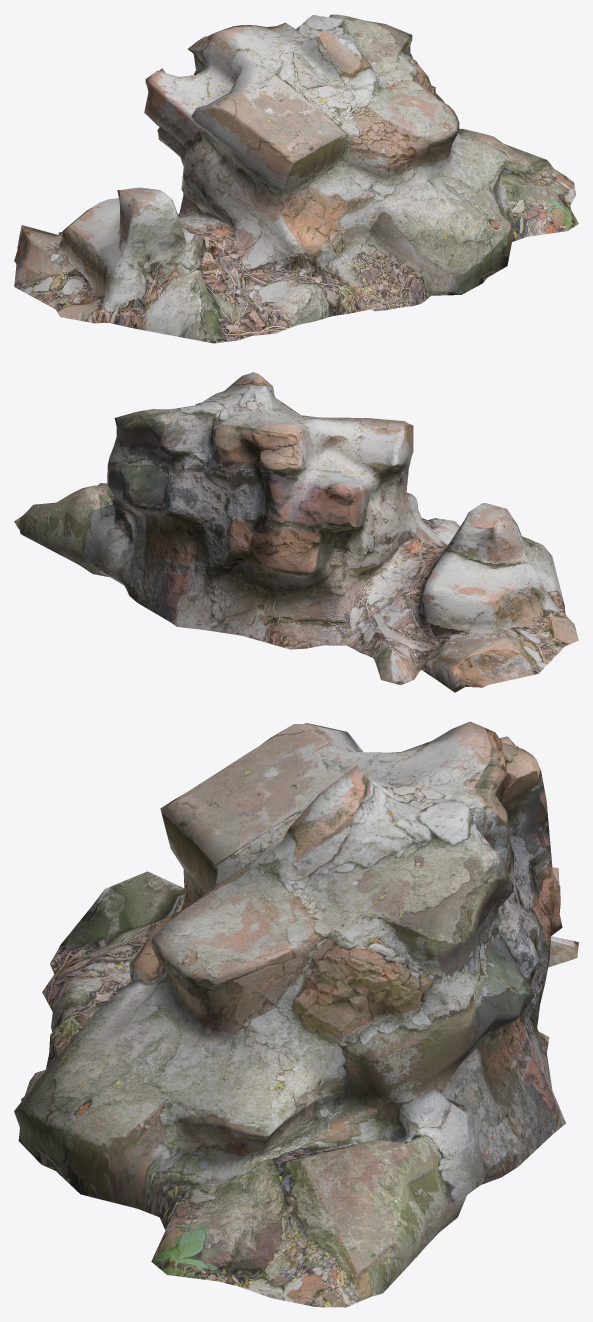
Rendered from SM_Rubble_01_01.fbx.
3 renders of one model, top to bottom at view 1: azimuth 30°, elevation 25°; view 2: azimuth 150°, elevation 25°; view 3: azimuth 270°, elevation 25°, orthographic. The views are drawn at different scales.
Parts seen in each view (by area): view 1: sm_Rubble_01_01_LOD0; view 2: sm_Rubble_01_01_LOD0; view 3: sm_Rubble_01_01_LOD0.
Boxes of the visible parts, x1,y1,x2,y2 form: sm_Rubble_01_01_LOD0: [14, 14, 578, 343]; sm_Rubble_01_01_LOD0: [14, 372, 578, 692]; sm_Rubble_01_01_LOD0: [14, 721, 578, 1307].
Size of the model in its own units: 63.36 by 116 by 42.82.
